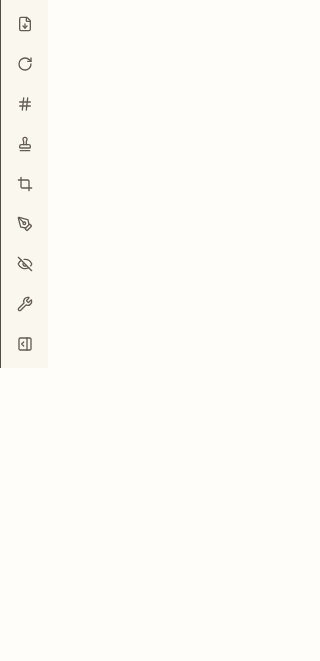
Suite 10 — PDF Editor: Tool Sidebar › ED-15 — Collapse/expand toggle works correctly
Note: Open a panel first
What coordinates should you click on to do the following:
click the button titled "Compress PDF"
I would click on:
 (24, 24)
Its box is [4,4,44,44].
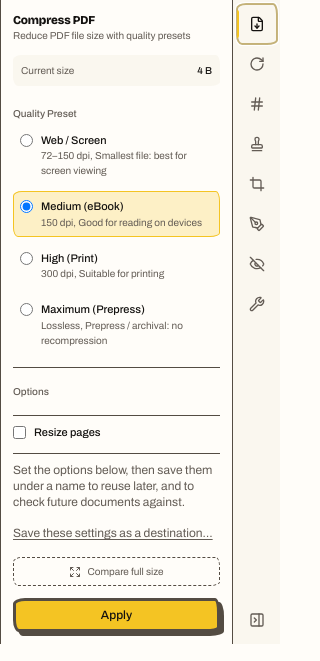
Check: the text "Quality Preset" is shown, box [13,108,76,118]
Note: Close panel via collapse toggle
What coordinates should you click on to do the following:
click the button titled "Close panel"
I would click on:
 (256, 620)
Its box is [236,600,276,640].
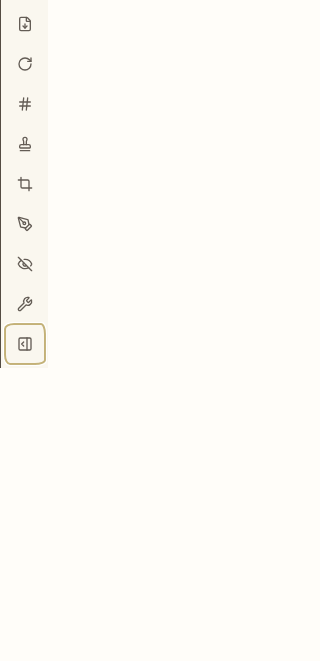
Check: the text "quality preset" is gone
Note: Re-open via expand toggle — should remember last tool
What coordinates should you click on to do the following:
click the button titled "Open panel"
I would click on:
 (24, 344)
Its box is [4,324,44,364].
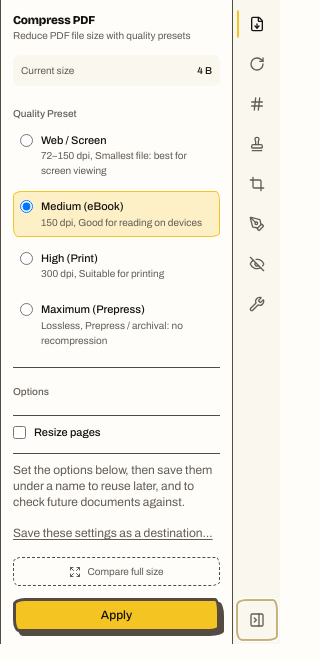
Check: the text "Quality Preset" is shown, box [13,108,76,118]
